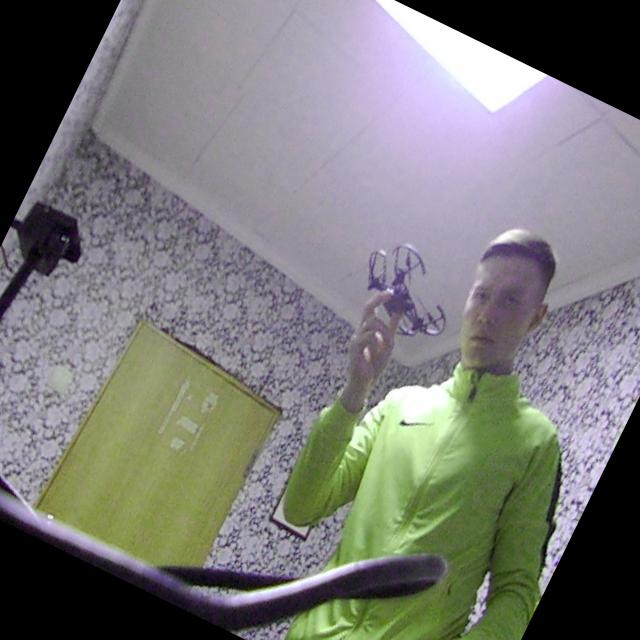drone: (334, 214, 486, 367)
